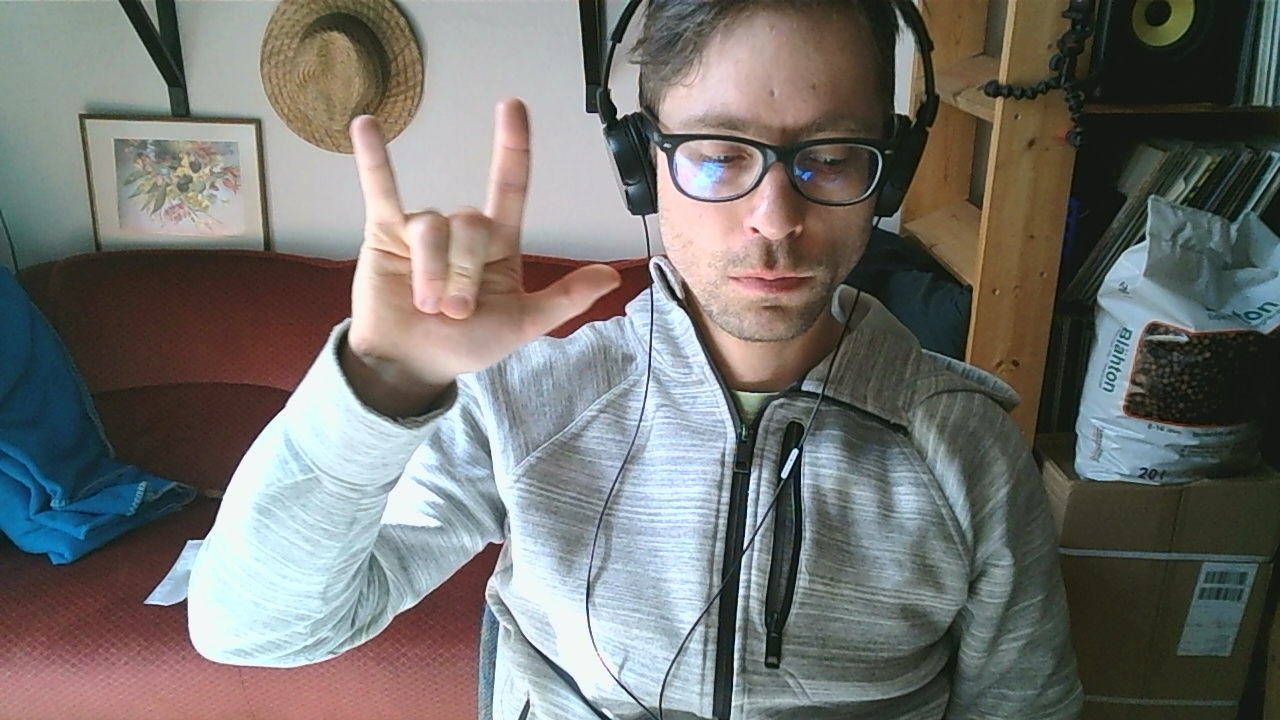iloveyou: (346, 98, 622, 379)
